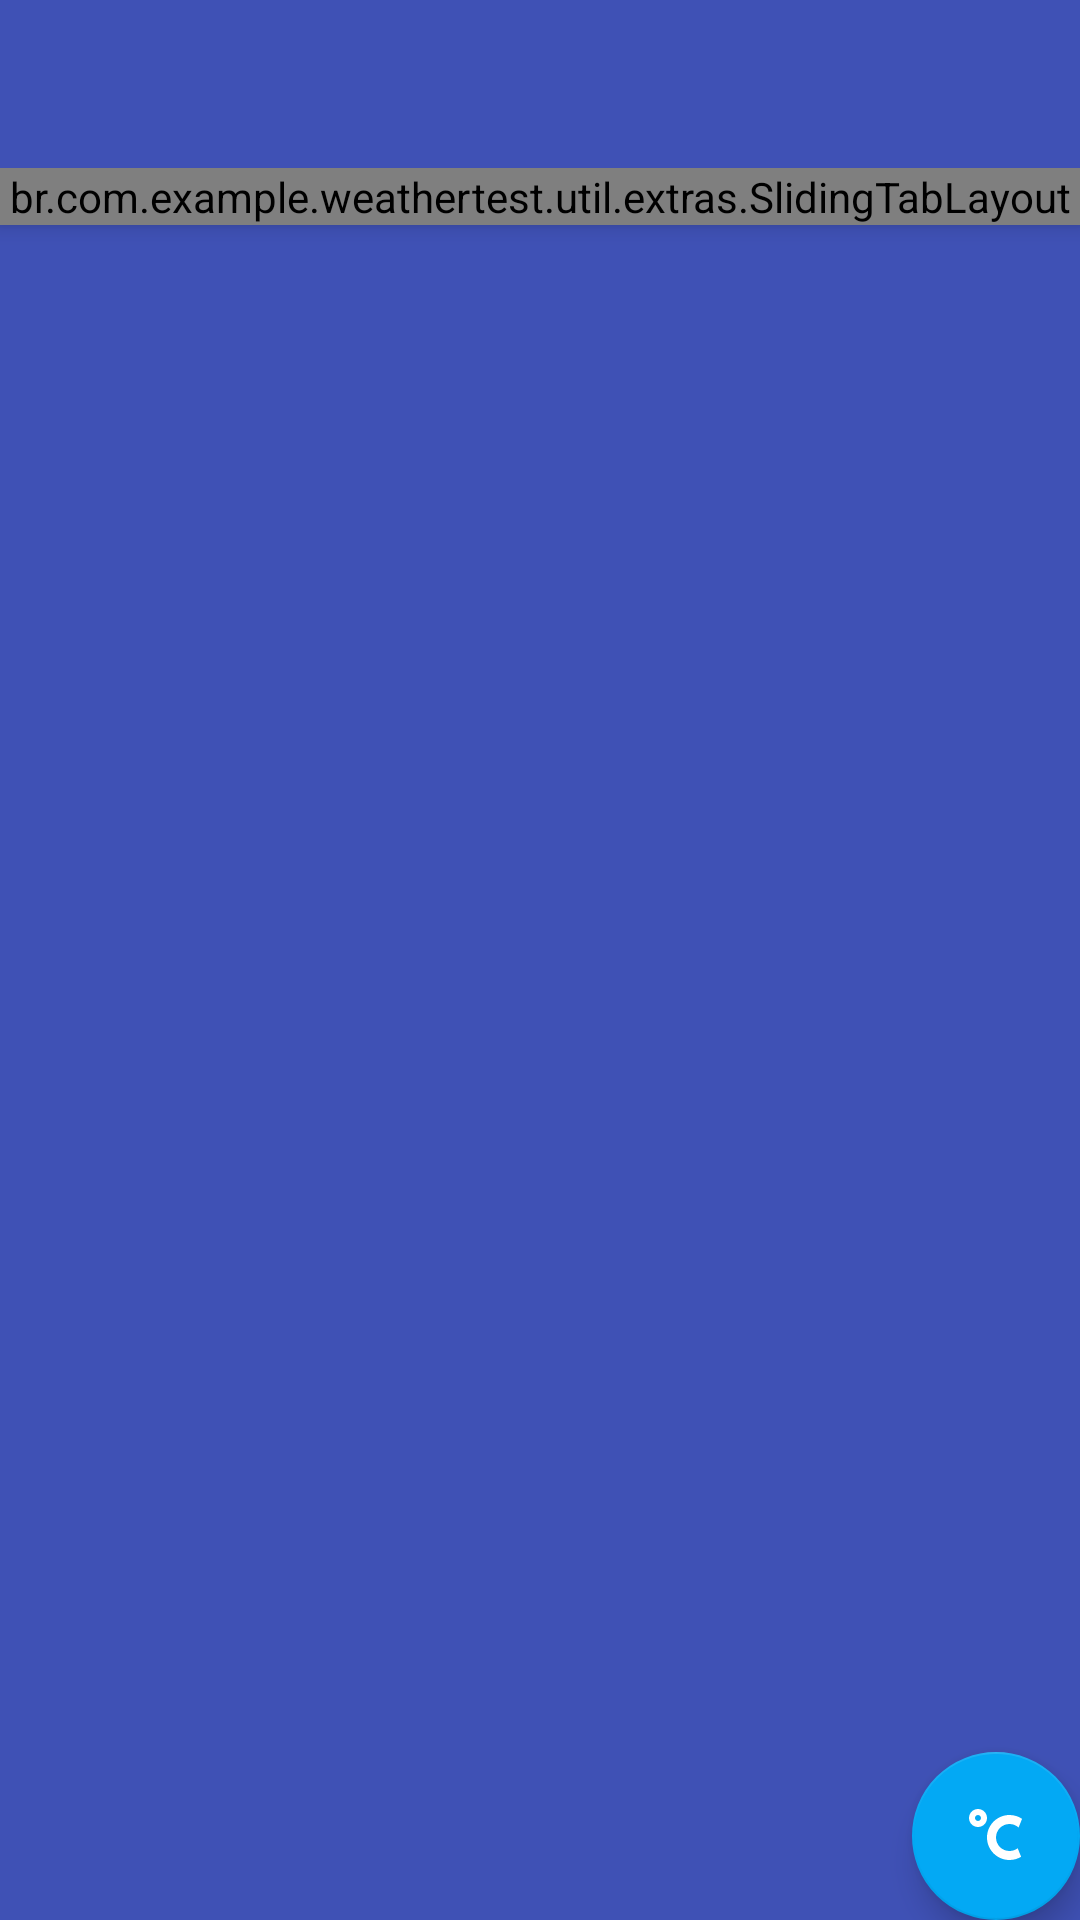

Icon click points for this 1080 × 1920 phone screenshot, format (x,y):
temperature celsius: (996,1836)
